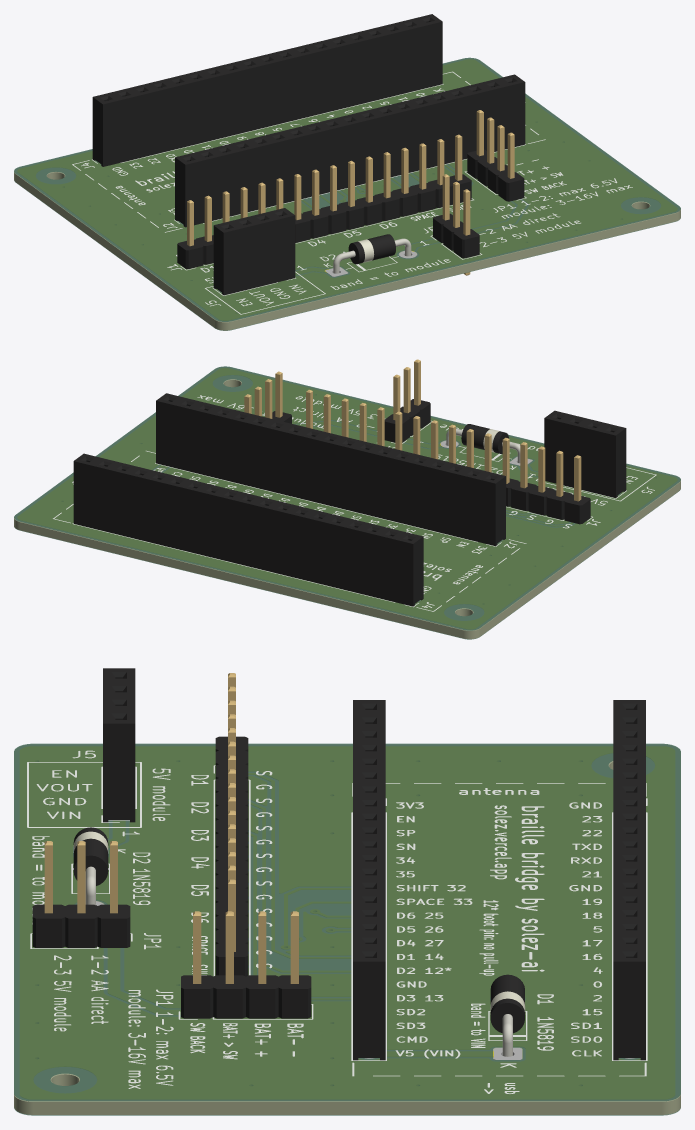
The model's file is bb1_wiring_board_v4.glb.
3 renders of one model, top to bottom at view 1: azimuth 30°, elevation 25°; view 2: azimuth 150°, elevation 25°; view 3: azimuth 270°, elevation 25°, orthographic. The views are drawn at different scales.
Visible parts, largest first — view 1: =>[0:1:1:5] (×2), =>[0:1:1:18], =>[0:1:1:14], =>[0:1:1:11], =>[0:1:1:20], =>[0:1:1:9], =>[0:1:1:17], =>[0:1:1:3], =>[0:1:1:13], =>[0:1:1:7], =>[0:1:1:19]; view 2: =>[0:1:1:5] (×2), =>[0:1:1:18], =>[0:1:1:14], =>[0:1:1:20], =>[0:1:1:11], =>[0:1:1:9], =>[0:1:1:17], =>[0:1:1:13], =>[0:1:1:3], =>[0:1:1:7], =>[0:1:1:19]; view 3: =>[0:1:1:18], =>[0:1:1:14], =>[0:1:1:5] (×2), =>[0:1:1:20], =>[0:1:1:17], =>[0:1:1:11], =>[0:1:1:3], =>[0:1:1:13], =>[0:1:1:9], =>[0:1:1:7] (×2), =>[0:1:1:19].
Part boxes in pixels (x1,y1,x2,y2): =>[0:1:1:5] (×2): (92, 14, 525, 227); =>[0:1:1:18]: (14, 57, 680, 321); =>[0:1:1:14]: (18, 60, 676, 320); =>[0:1:1:11]: (177, 134, 471, 268); =>[0:1:1:20]: (14, 59, 680, 330); =>[0:1:1:9]: (213, 208, 295, 295); =>[0:1:1:17]: (72, 71, 632, 314); =>[0:1:1:3]: (467, 110, 524, 201); =>[0:1:1:13]: (433, 174, 479, 275); =>[0:1:1:7]: (333, 234, 411, 273); =>[0:1:1:19]: (14, 181, 680, 330); =>[0:1:1:5] (×2): (73, 393, 505, 606); =>[0:1:1:18]: (14, 366, 680, 630); =>[0:1:1:14]: (18, 368, 676, 628); =>[0:1:1:20]: (14, 367, 680, 639); =>[0:1:1:11]: (306, 389, 590, 524); =>[0:1:1:9]: (544, 410, 626, 497); =>[0:1:1:17]: (53, 395, 656, 611); =>[0:1:1:13]: (384, 359, 430, 442); =>[0:1:1:3]: (244, 371, 291, 423); =>[0:1:1:7]: (446, 424, 520, 463); =>[0:1:1:19]: (14, 489, 680, 639); =>[0:1:1:18]: (14, 743, 680, 1101); =>[0:1:1:14]: (20, 747, 674, 1098); =>[0:1:1:5] (×2): (353, 700, 645, 1060); =>[0:1:1:20]: (14, 745, 680, 1114); =>[0:1:1:17]: (27, 750, 647, 1093); =>[0:1:1:11]: (215, 673, 248, 976); =>[0:1:1:3]: (181, 911, 311, 1018); =>[0:1:1:13]: (32, 841, 130, 947); =>[0:1:1:9]: (103, 668, 135, 822); =>[0:1:1:7] (×2): (73, 827, 525, 1056); =>[0:1:1:19]: (14, 1107, 680, 1115).
Size of the model in its own units: 0.066 by 0.0116 by 0.052.
